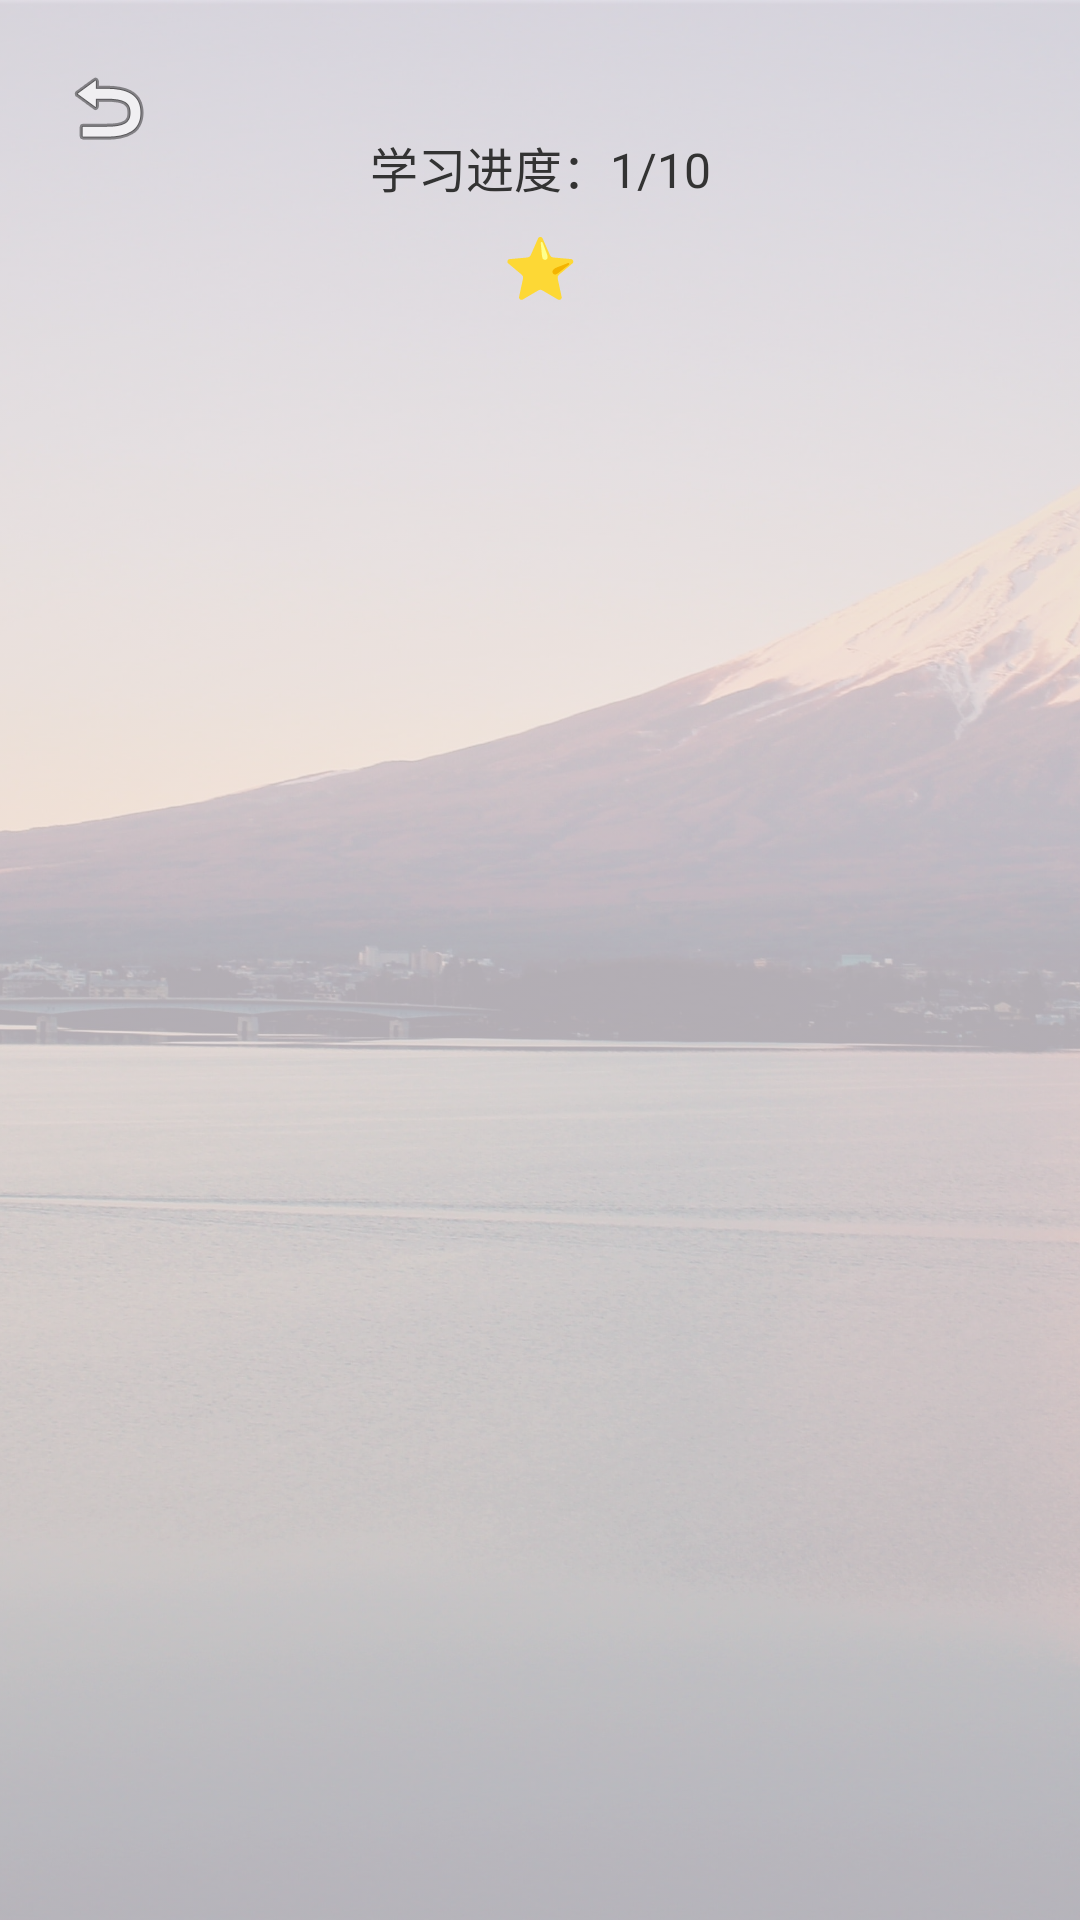

Point at icon controls on the screen. Image size 1080x1920, points as point (x, y).
返回主界面: point (109, 108)
